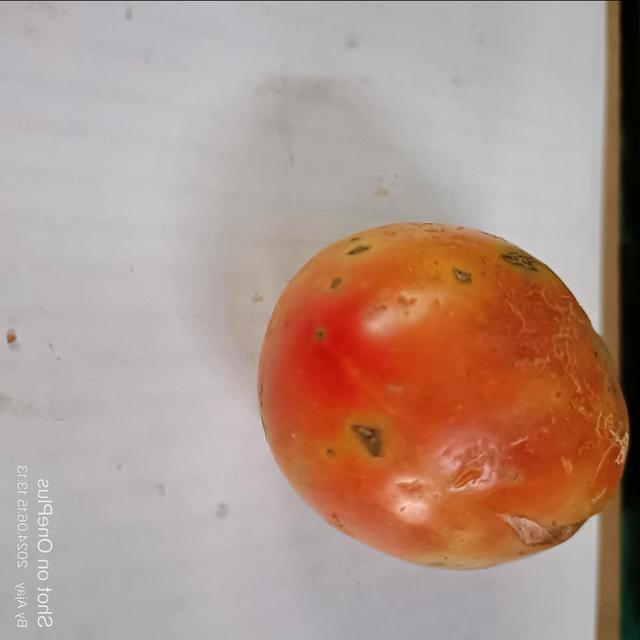Bacterial Spot Fruit: (16, 14, 359, 353)
